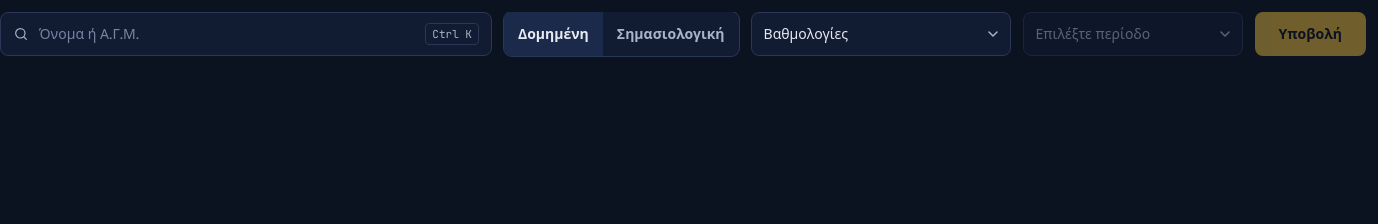
Test: QueryForm › shows bare (ΑΓΜ) for a person without a name
Click the dropdown named "Άτομο": x=227, y=34 [39,13,415,55]
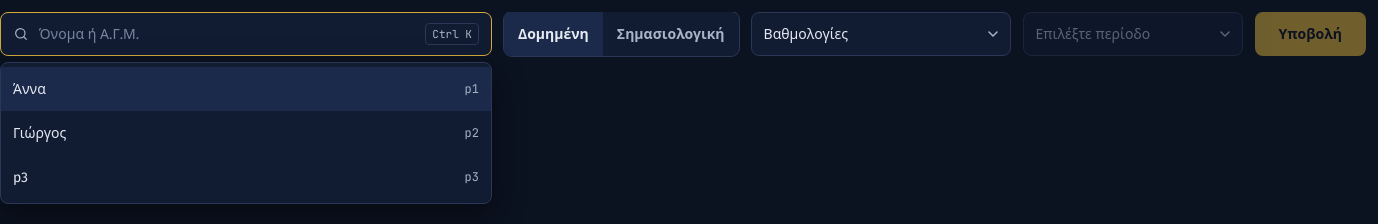
Now the option named "(p3)" is shown, box [13,168,479,186]
